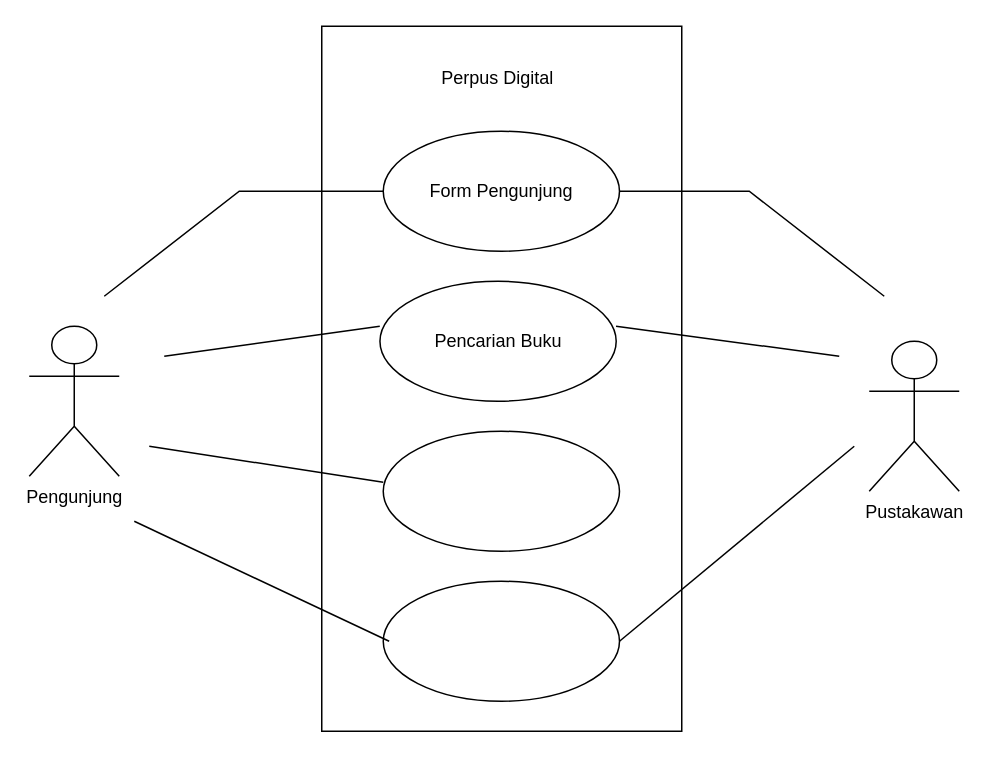
Some shapes in this 989 by 758 pixel diagram are drawn without their labels. Here are the shapes that lost their labels. From the top down, the centre of each, then its label:
At (501,490): "Masukan Judul Buku".
At (501,640): "Lihat Rincian Buku".
